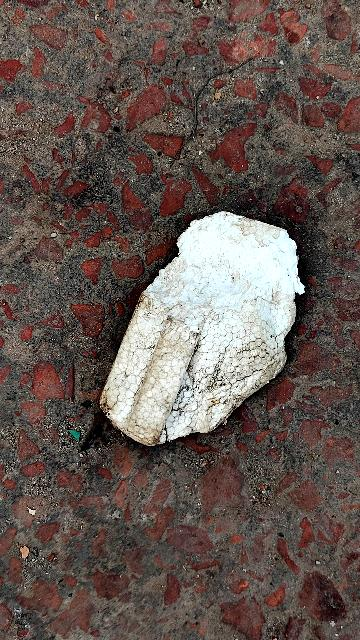cocksheet: (91, 193, 317, 477)
